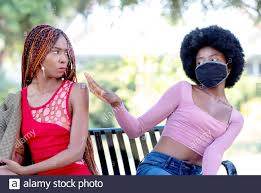no-mask: (23, 24, 80, 84)
with-mask: (190, 39, 240, 90)
